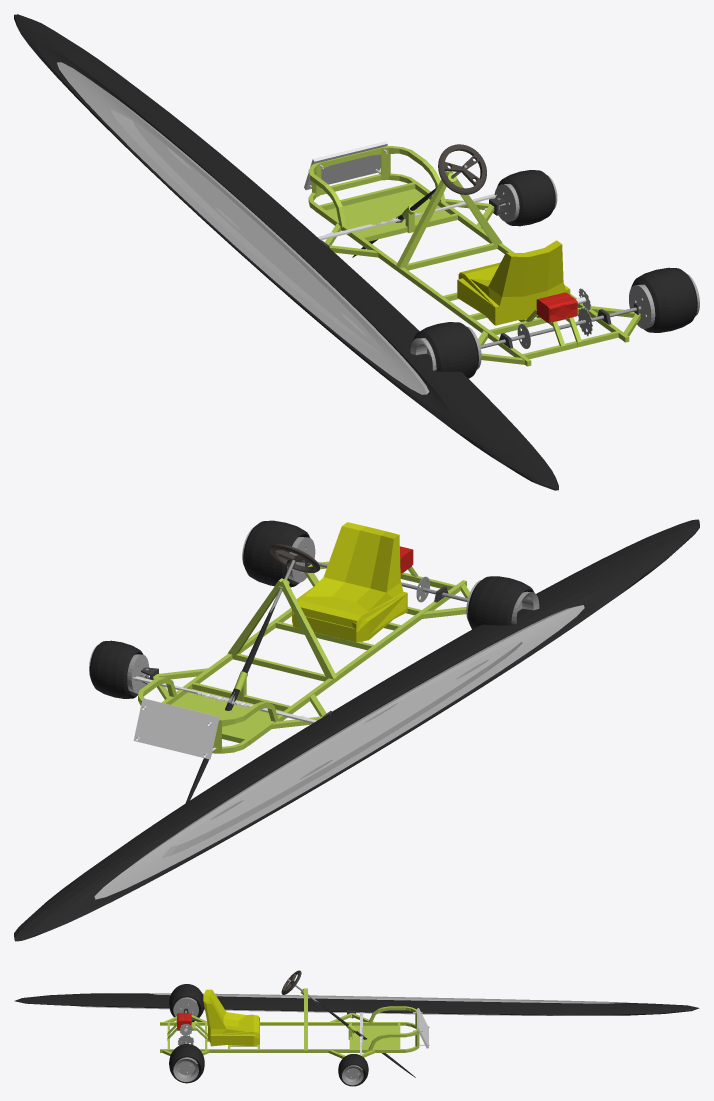
Rendered from solidWorksGoKartTest.fbx.
The picture shows the model from 3 angles, top to bottom: view 1: azimuth 30°, elevation 25°; view 2: azimuth 150°, elevation 25°; view 3: azimuth 270°, elevation 25°; orthographic projection. The views are drawn at different scales.
Visible parts, largest first — view 1: rearTire01.001, frontLeftWheel.001, Frame, Seat, rearTire, rearTire01, rearTire01.002, signHolder, SteeringWheel, electricEngine, rearRightWheel, frontLeftWheel.000; view 2: rearTire01.001, frontLeftWheel.001, Frame, Seat, signHolder, rearTire, rearTire01, rearTire01.002, SteeringWheel, Sphere, frontLeftWheel.000; view 3: rearTire01.001, Frame, Seat, frontLeftWheel.001, rearTire, rearTire01, rearRightWheel, rearTire01.002, rearLeftWheel, frontLeftWheel.000, signHolder, Sphere (+1 smaller).
Boxes of the visible parts, left/top/right/bottom form: rearTire01.001: left=14, top=14, right=558, bottom=490; frontLeftWheel.001: left=57, top=62, right=429, bottom=394; Frame: left=308, top=146, right=640, bottom=366; Seat: left=457, top=240, right=570, bottom=325; rearTire: left=631, top=267, right=697, bottom=332; rearTire01: left=412, top=322, right=478, bottom=378; rearTire01.002: left=497, top=170, right=555, bottom=226; signHolder: left=304, top=141, right=387, bottom=189; SteeringWheel: left=438, top=144, right=486, bottom=194; electricEngine: left=536, top=292, right=577, bottom=322; rearRightWheel: left=629, top=274, right=699, bottom=328; frontLeftWheel.000: left=494, top=175, right=557, bottom=222; rearTire01.001: left=14, top=519, right=699, bottom=941; frontLeftWheel.001: left=94, top=605, right=584, bottom=899; Frame: left=138, top=561, right=469, bottom=753; Seat: left=292, top=522, right=407, bottom=642; signHolder: left=133, top=698, right=219, bottom=759; rearTire: left=243, top=520, right=309, bottom=587; rearTire01: left=467, top=576, right=534, bottom=629; rearTire01.002: left=90, top=640, right=143, bottom=698; SteeringWheel: left=270, top=544, right=319, bottom=572; Sphere: left=186, top=606, right=274, bottom=802; frontLeftWheel.000: left=89, top=645, right=149, bottom=693; rearTire01.001: left=14, top=993, right=699, bottom=1015; Frame: left=160, top=988, right=419, bottom=1058; Seat: left=203, top=989, right=259, bottom=1046; frontLeftWheel.001: left=76, top=993, right=629, bottom=1015; rearTire: left=169, top=1044, right=204, bottom=1083; rearTire01: left=169, top=984, right=204, bottom=1021; rearRightWheel: left=173, top=1057, right=198, bottom=1081; rearTire01.002: left=338, top=1054, right=368, bottom=1086; rearLeftWheel: left=173, top=997, right=198, bottom=1020; frontLeftWheel.000: left=342, top=1065, right=363, bottom=1085; signHolder: left=417, top=1008, right=428, bottom=1048; Sphere: left=316, top=1001, right=415, bottom=1077.
Size of the model in its own units: 278 by 161 by 946.
